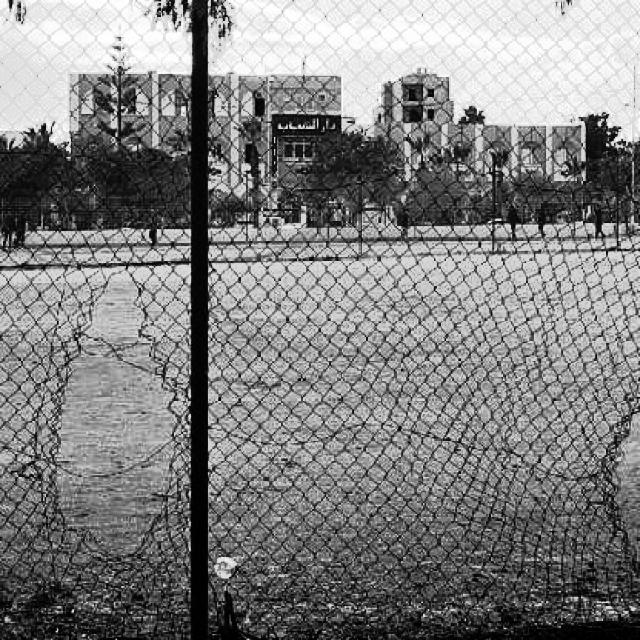anomaly-fence: (15, 272, 200, 640), (581, 356, 640, 578)
